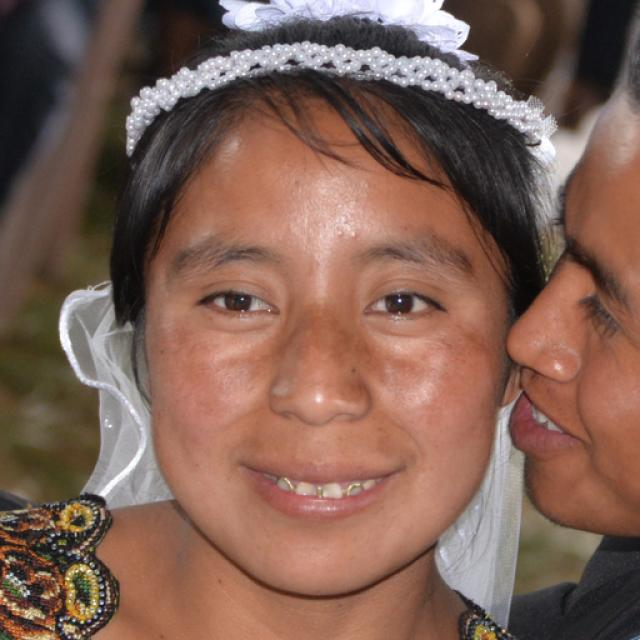Acne: (333, 228, 359, 244)
Pigmentation: (375, 326, 499, 423), (256, 298, 374, 366)
